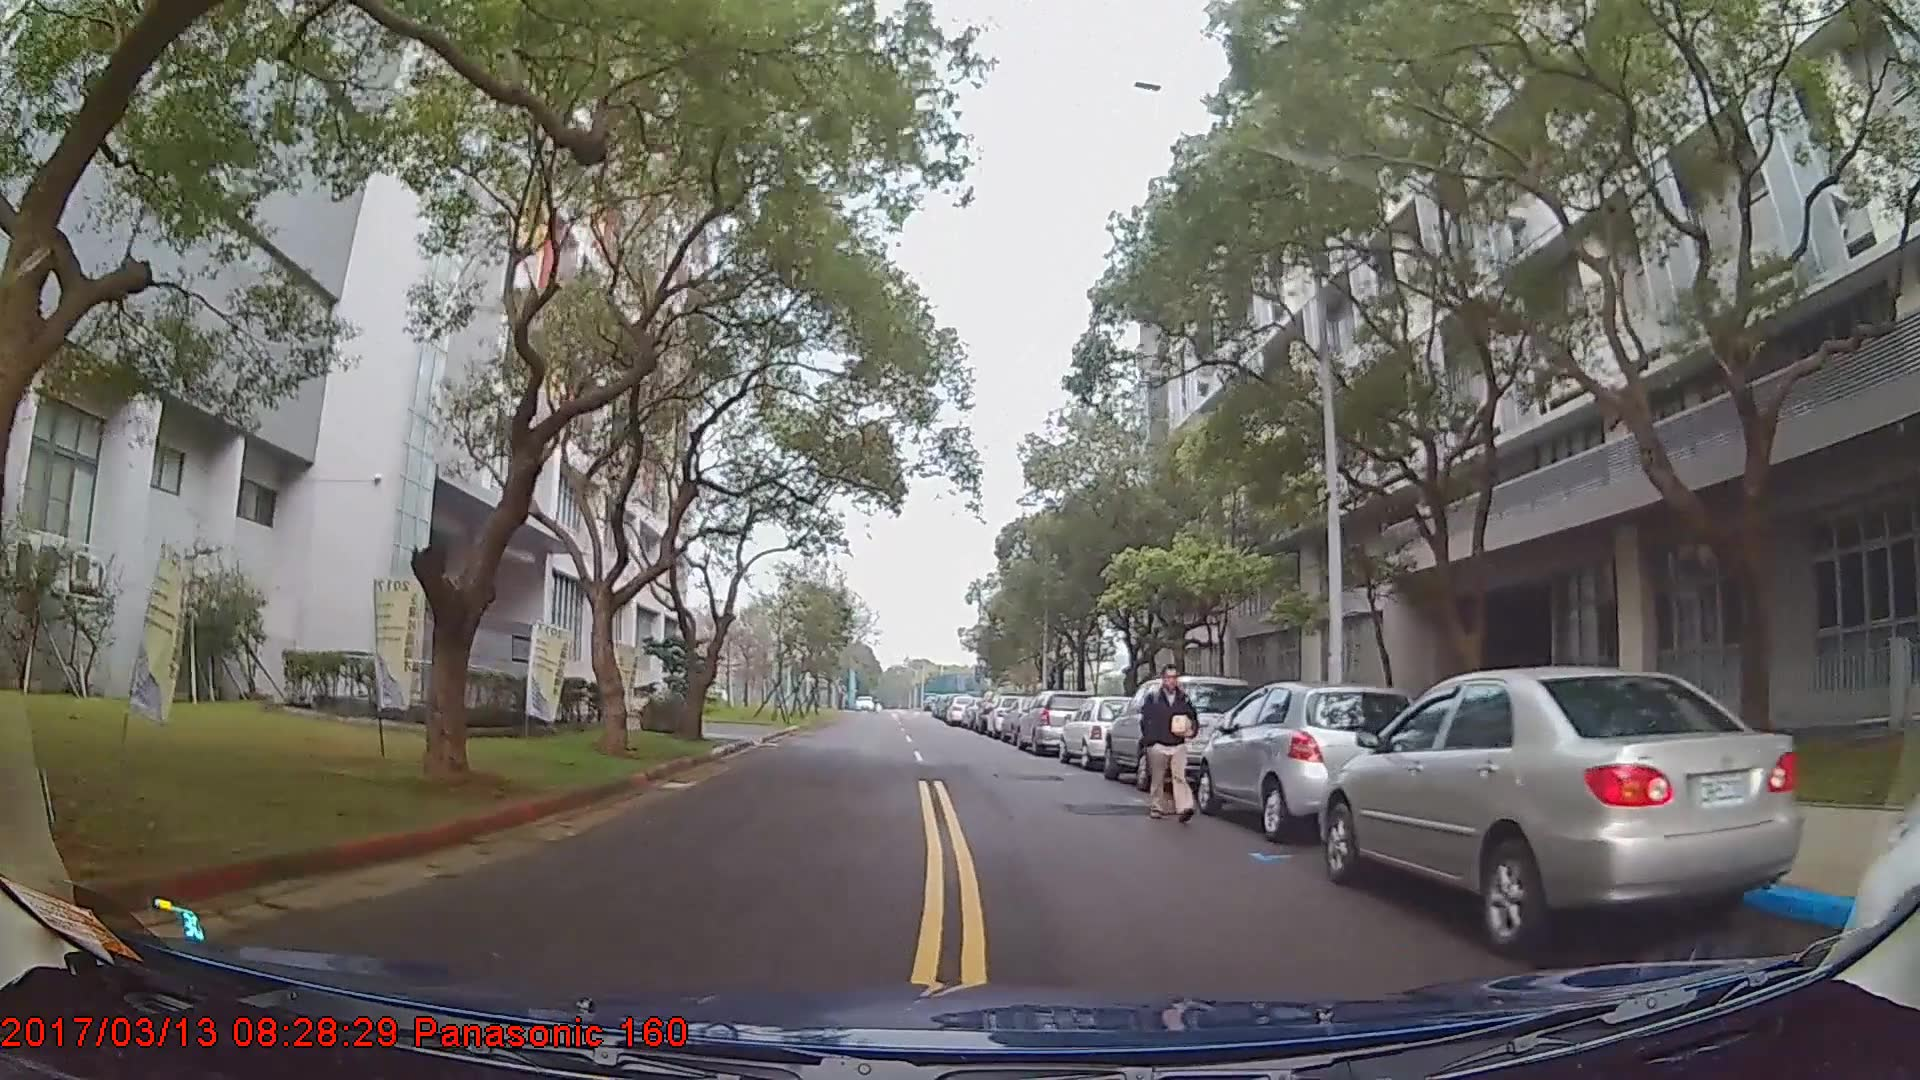pedestrian: (1145, 663, 1206, 822)
vehicle: (1318, 664, 1805, 955), (1195, 678, 1418, 839), (1104, 674, 1259, 790), (1058, 693, 1145, 771), (1015, 688, 1099, 753)
